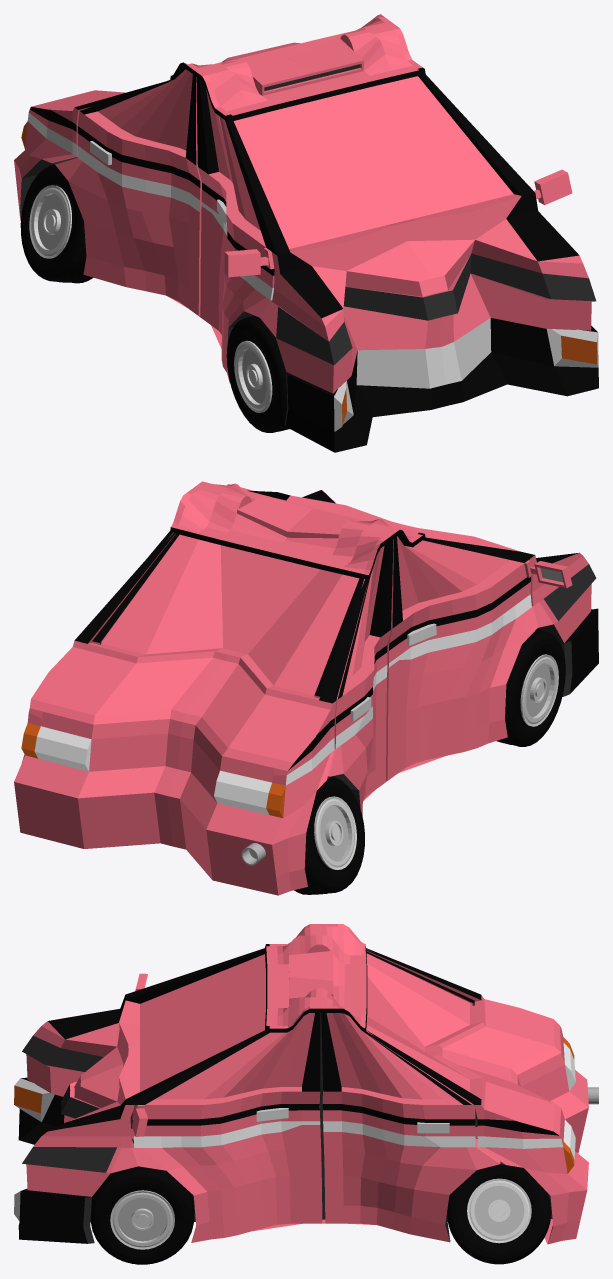
The picture shows the model from 3 angles, top to bottom: view 1: azimuth 30°, elevation 25°; view 2: azimuth 150°, elevation 25°; view 3: azimuth 270°, elevation 25°; orthographic projection. The views are drawn at different scales.
Parts seen in each view (by area): view 1: BODY32A-S, WHEEL.004, WHEEL.001; view 2: BODY32A-S, WHEEL.004, WHEEL.001; view 3: BODY32A-S, WHEEL.003, WHEEL.002.
Part boxes in pixels (bbox=[...]): BODY32A-S: bbox=[14, 14, 598, 452]; WHEEL.004: bbox=[20, 164, 93, 283]; WHEEL.001: bbox=[226, 315, 289, 432]; BODY32A-S: bbox=[14, 481, 598, 895]; WHEEL.004: bbox=[294, 776, 364, 894]; WHEEL.001: bbox=[496, 629, 565, 746]; BODY32A-S: bbox=[14, 924, 588, 1244]; WHEEL.003: bbox=[90, 1166, 194, 1264]; WHEEL.002: bbox=[447, 1164, 551, 1264].
Bounding box in the file's own units: 131 × 99.84 × 219.
